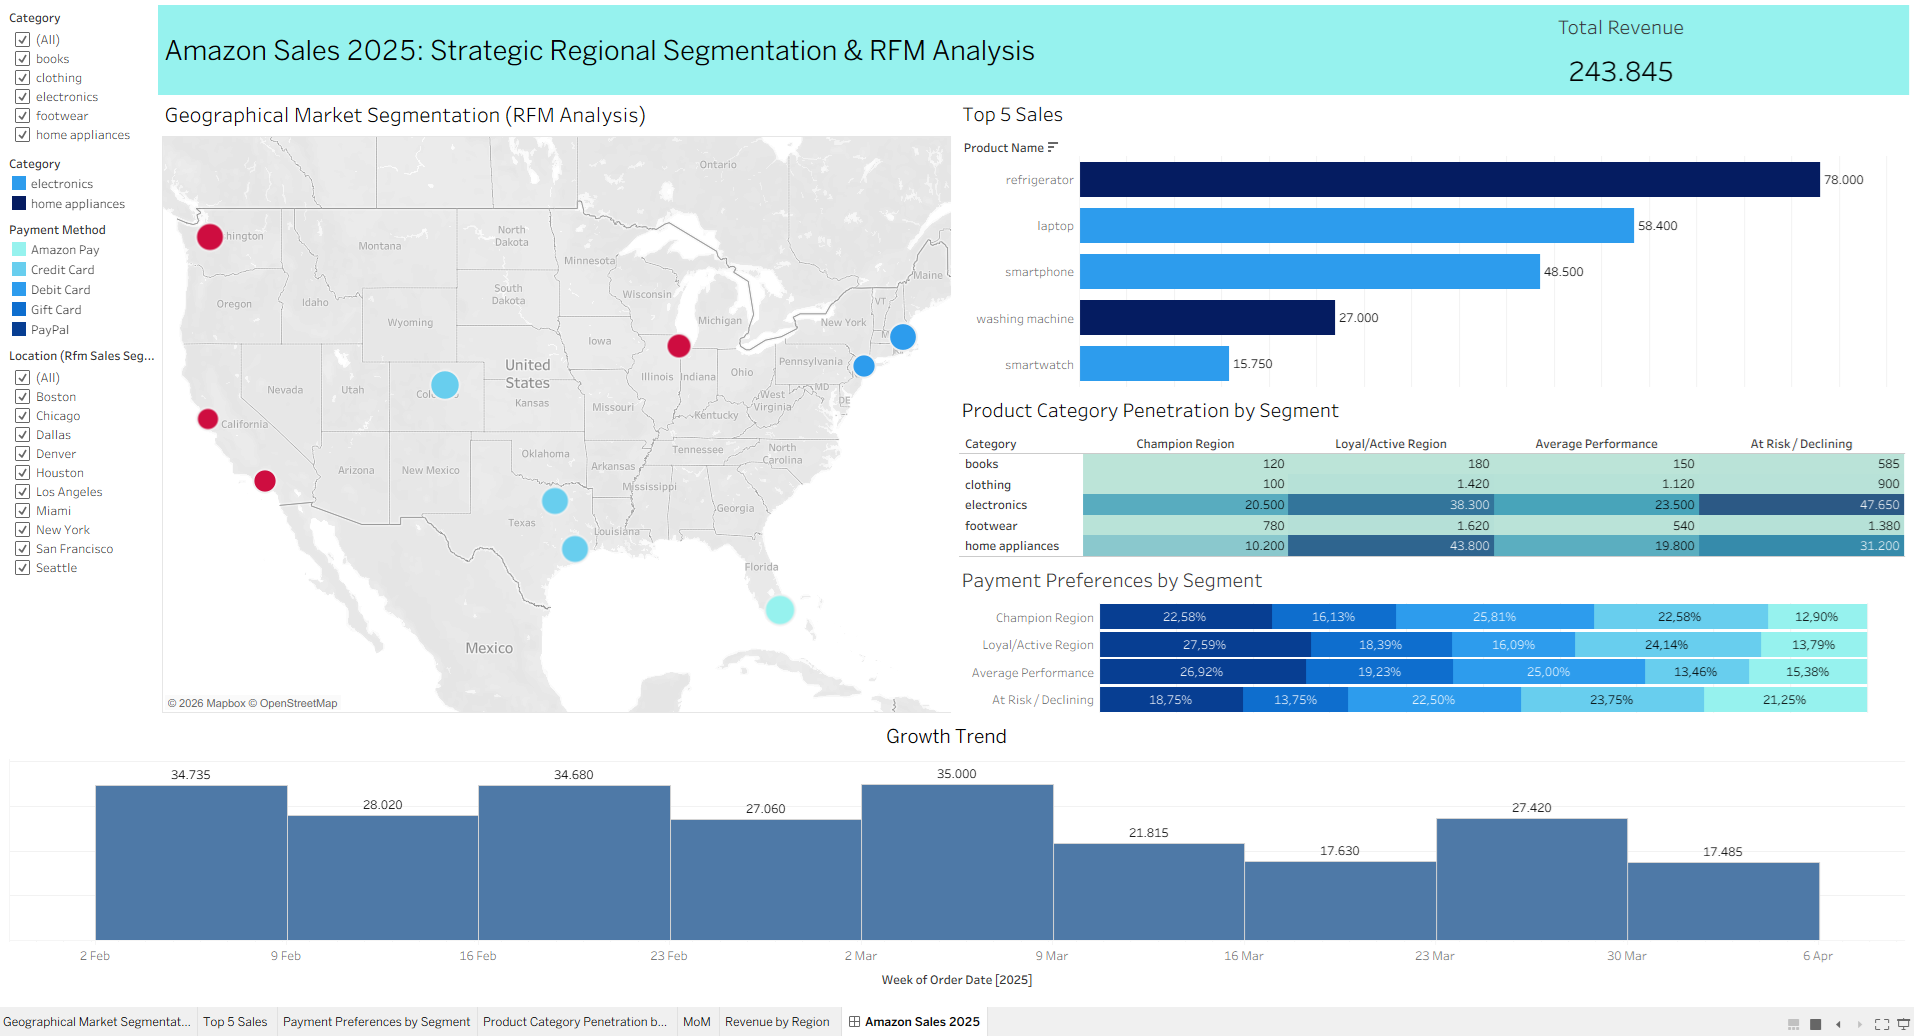

What the dashboard file says about the page in this screenshot:
{"tool":"tableau","page":{"name":"Amazon Sales 2025","canvas":[1000,1000],"units":"permille","ordinal":0},"visuals":[{"type":"filter","title":"Geographical Market Segmentation (RFM Analysis)","param":"[federated.0vtgdt70ba2oz811u2e1x17ofd98].[none:category:nk]","box":[4.7,9.3,79.4,170.6]},{"type":"text","box":[84.1,9.3,713.5,88.7]},{"type":"worksheet","title":"Revenue by Region","mark":"Automatic","box":[797.5,9.3,197.8,88.7]},{"type":"text","box":[84.1,98,415.4,37.1]},{"type":"text","box":[499.4,98,495.9,37.1]},{"type":"worksheet","title":"Geographical Market Segmentation (RFM Analysis)","mark":"Circle","box":[84.1,135.2,415.1,577.2]},{"type":"worksheet","title":"Top 5 Sales","mark":"Automatic","rows":["product_name"],"cols":["total_revenue"],"box":[499.2,135.2,496.1,255.4]},{"type":"legend","title":"Top 5 Sales","param":"[federated.0vtgdt70ba2oz811u2e1x17ofd98].[none:category:nk]","box":[4.7,179.9,79.4,77.1]},{"type":"legend","title":"Payment Preferences by Segment","param":"[federated.0vtgdt70ba2oz811u2e1x17ofd98].[none:payment_method:nk]","box":[4.7,257,79.4,147.2]},{"type":"text","box":[499.2,390.6,496.1,37.9]},{"type":"filter","title":"Revenue by Region","param":"[federated.0vtgdt70ba2oz811u2e1x17ofd98].[none:location (rfm_sales_seg.csv):nk]","box":[4.7,404.2,79.4,281.6]},{"type":"worksheet","title":"Product Category Penetration by Segment","mark":"Square","rows":["category"],"cols":["segment_label"],"box":[499.2,428.5,496.1,130.2]},{"type":"text","box":[499.2,558.7,496.1,36.8]},{"type":"worksheet","title":"Payment Preferences by Segment","mark":"Automatic","rows":["segment_label"],"box":[499.2,595.5,496.1,116.9]},{"type":"text","box":[4.7,712.4,979.9,37.4]},{"type":"worksheet","title":"MoM","mark":"Bar","rows":["total_revenue"],"cols":["order_date"],"box":[4.7,749.8,990.6,240.9]}]}

Visuals, with their boxes on the dashboard's canvas, which has no fixed pixel size, in thousandths of its width and height (x1, y1, x2, y2). These are canvas units, not pixel positions in the 1914x1036 screenshot, which may show the page scaled, cropped or inside an application window:
"Geographical Market Segmentation (RFM Analysis)" filter: region(5, 9, 84, 180)
text: region(84, 9, 798, 98)
"Revenue by Region" worksheet: region(798, 9, 995, 98)
text: region(84, 98, 500, 135)
text: region(499, 98, 995, 135)
"Geographical Market Segmentation (RFM Analysis)" worksheet (Circle marks): region(84, 135, 499, 712)
"Top 5 Sales" worksheet: region(499, 135, 995, 391)
"Top 5 Sales" legend: region(5, 180, 84, 257)
"Payment Preferences by Segment" legend: region(5, 257, 84, 404)
text: region(499, 391, 995, 428)
"Revenue by Region" filter: region(5, 404, 84, 686)
"Product Category Penetration by Segment" worksheet (Square marks): region(499, 428, 995, 559)
text: region(499, 559, 995, 596)
"Payment Preferences by Segment" worksheet: region(499, 596, 995, 712)
text: region(5, 712, 985, 750)
"MoM" worksheet (Bar marks): region(5, 750, 995, 991)
